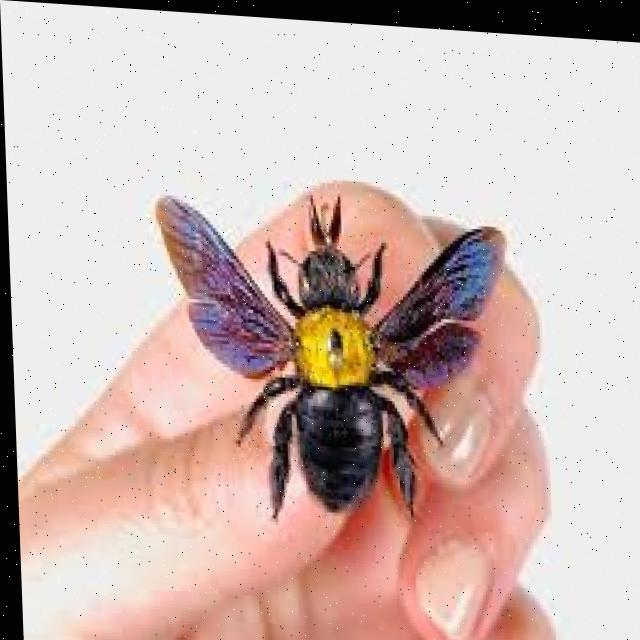Xylocopa: (148, 144, 516, 537)
